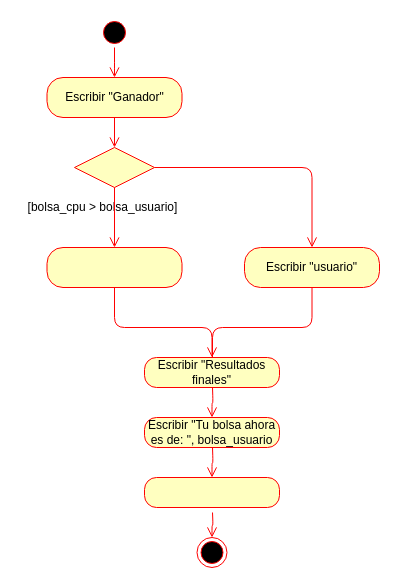
The diagram is 397 pixels wide and 585 high, and some of its shapes have lost their labels. The shapes that lost their labels are listed below. From the top down, each one's centre as x and y in pixels, then its label:
(x=114, y=267): Escribir "cpu"
(x=212, y=492): Escribir "La bolsa de la cpu es:", bolsa_cpu
